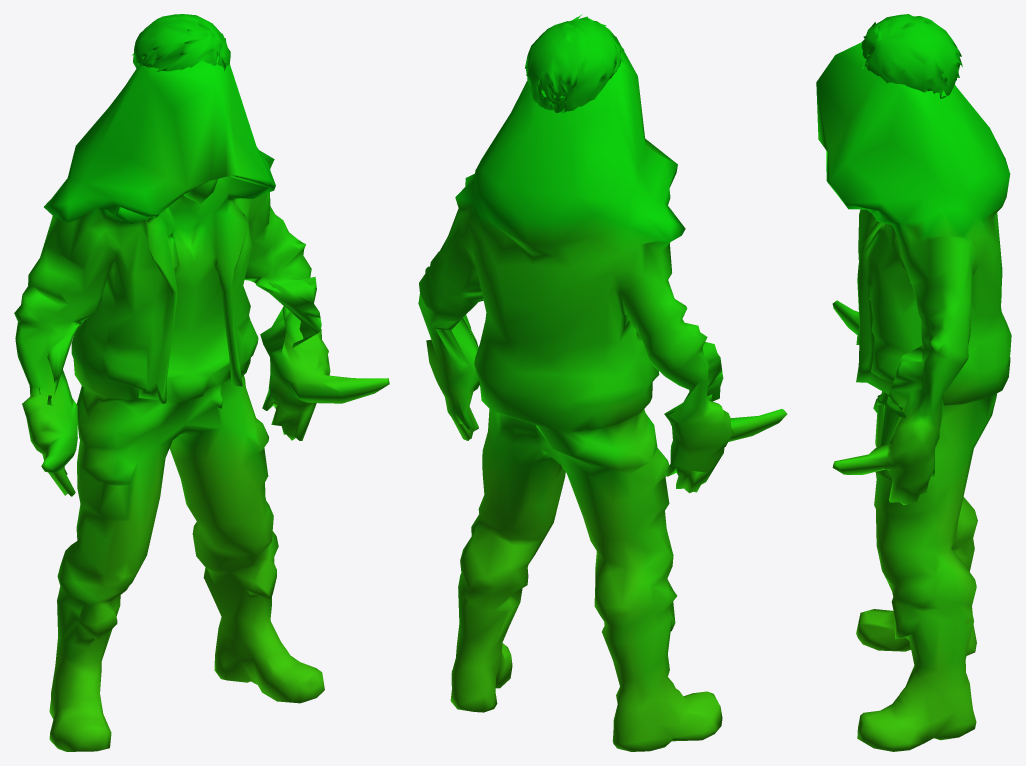
File: compose_bandit_weak.glb
3 views of the same model, side by side, from view 1: azimuth 30°, elevation 25°; view 2: azimuth 150°, elevation 25°; view 3: azimuth 270°, elevation 25° (orthographic). The views are drawn at different scales.
Visible parts, largest first — view 1: compose_bandit_weak; view 2: compose_bandit_weak; view 3: compose_bandit_weak.
Part boxes in pixels (left/top/right/bottom): compose_bandit_weak: left=14, top=14, right=389, bottom=751; compose_bandit_weak: left=418, top=14, right=787, bottom=751; compose_bandit_weak: left=816, top=14, right=1011, bottom=751.
Size of the model in its own units: 1.06 by 2.02 by 0.5324.
